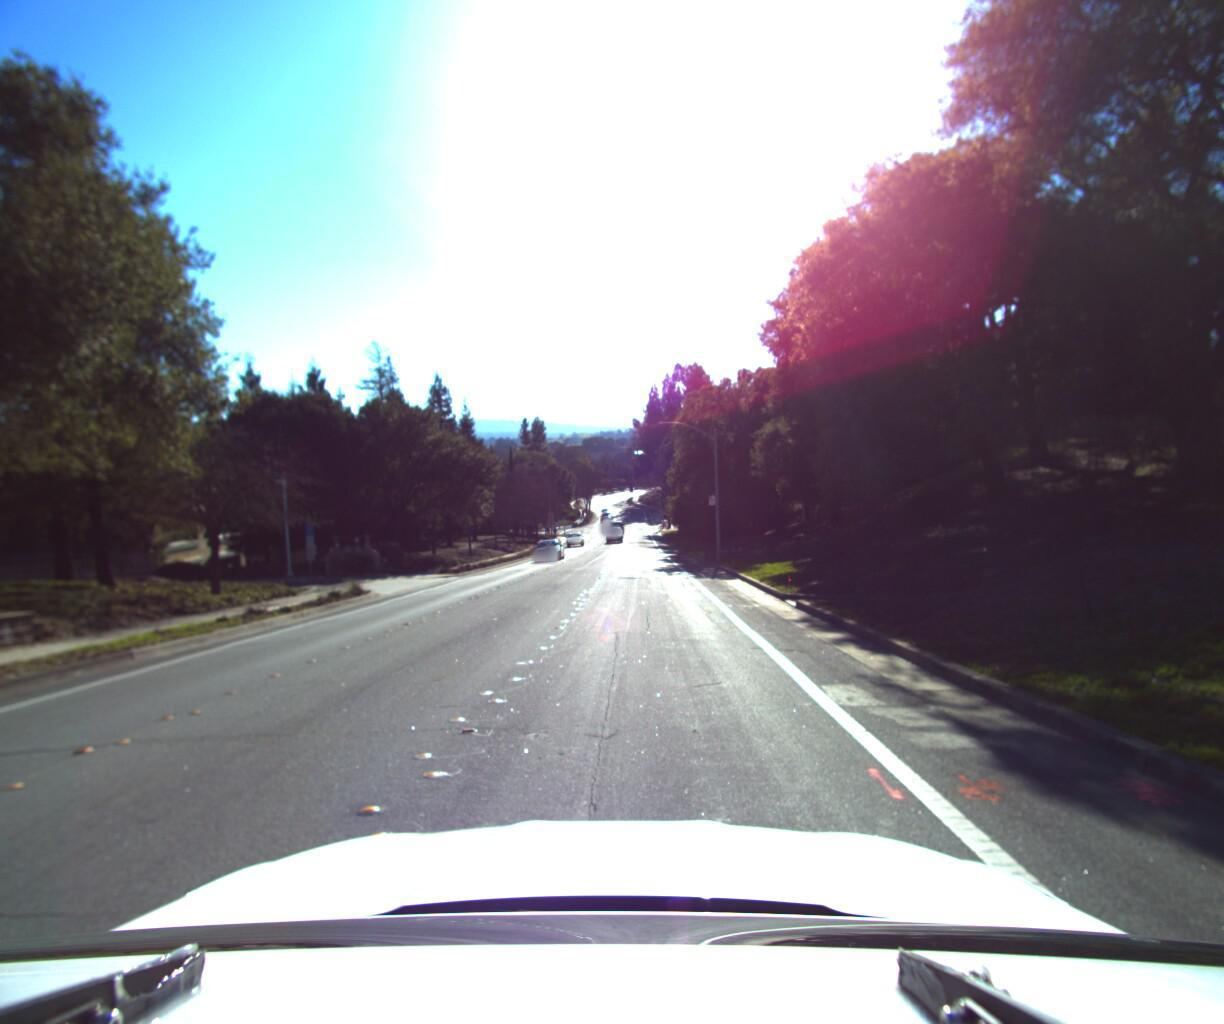car: (532, 530, 565, 560)
